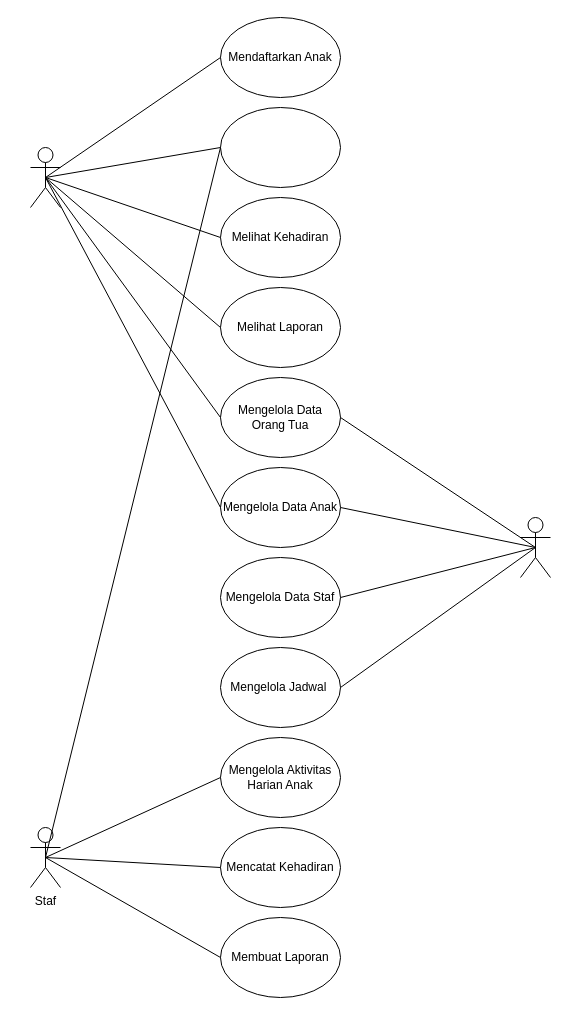
The diagram is 570 pixels wide and 1015 high, and some of its shapes have lost their labels. The centre of each missing label's shape, as x and y in pixels:
Admin: the point at 535,547
Melihat Jadwal: the point at 280,147
Orang Tua: the point at 45,177
